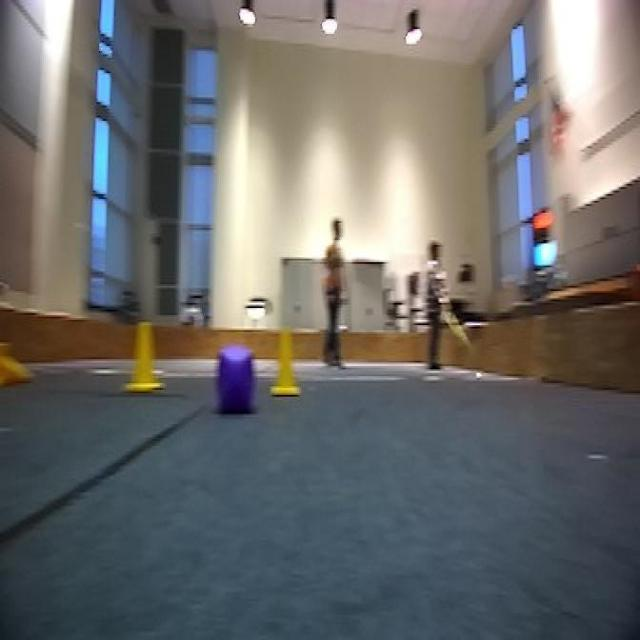frc_cone: (121, 322, 164, 393), (269, 328, 304, 395), (1, 339, 36, 386)
frc_cube: (213, 346, 257, 414)
